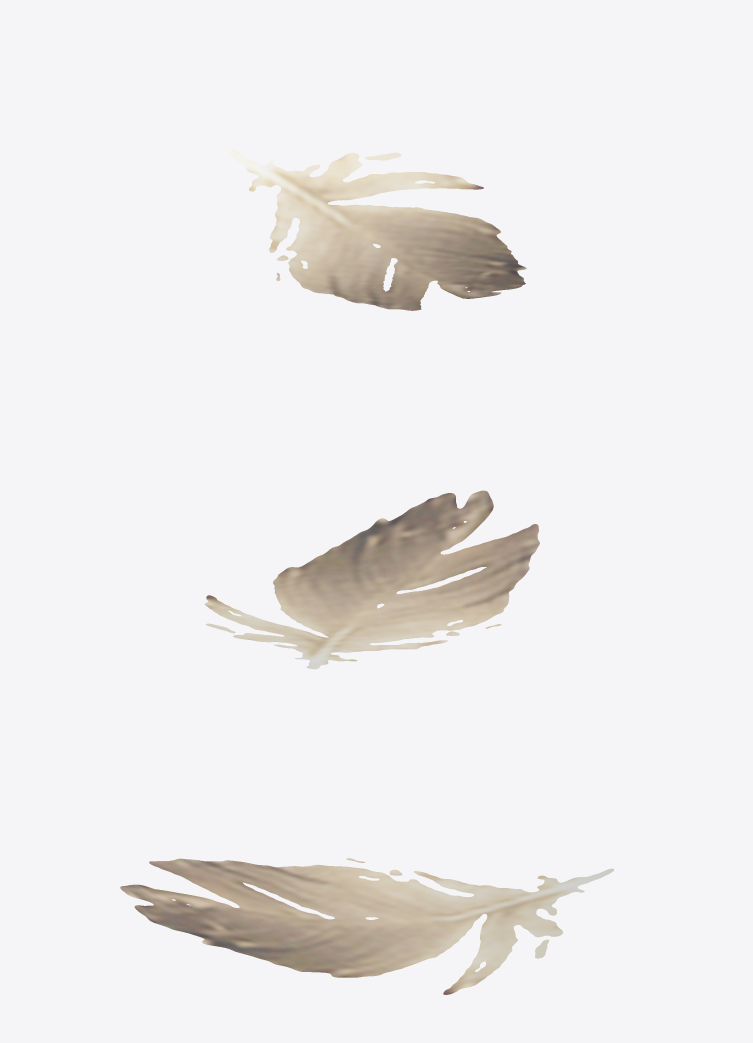
File: chicken_feather.fbx
The picture shows the model from 3 angles, top to bottom: view 1: azimuth 30°, elevation 25°; view 2: azimuth 150°, elevation 25°; view 3: azimuth 270°, elevation 25°; orthographic projection. The views are drawn at different scales.
Visible parts, largest first — view 1: chicken_feather; view 2: chicken_feather; view 3: chicken_feather.
Part boxes in pixels (bbox=[...]): chicken_feather: bbox=[229, 149, 526, 310]; chicken_feather: bbox=[204, 490, 539, 669]; chicken_feather: bbox=[120, 858, 614, 994].
Bounding box in the file's own units: 10.16 × 1.51 × 14.21.
